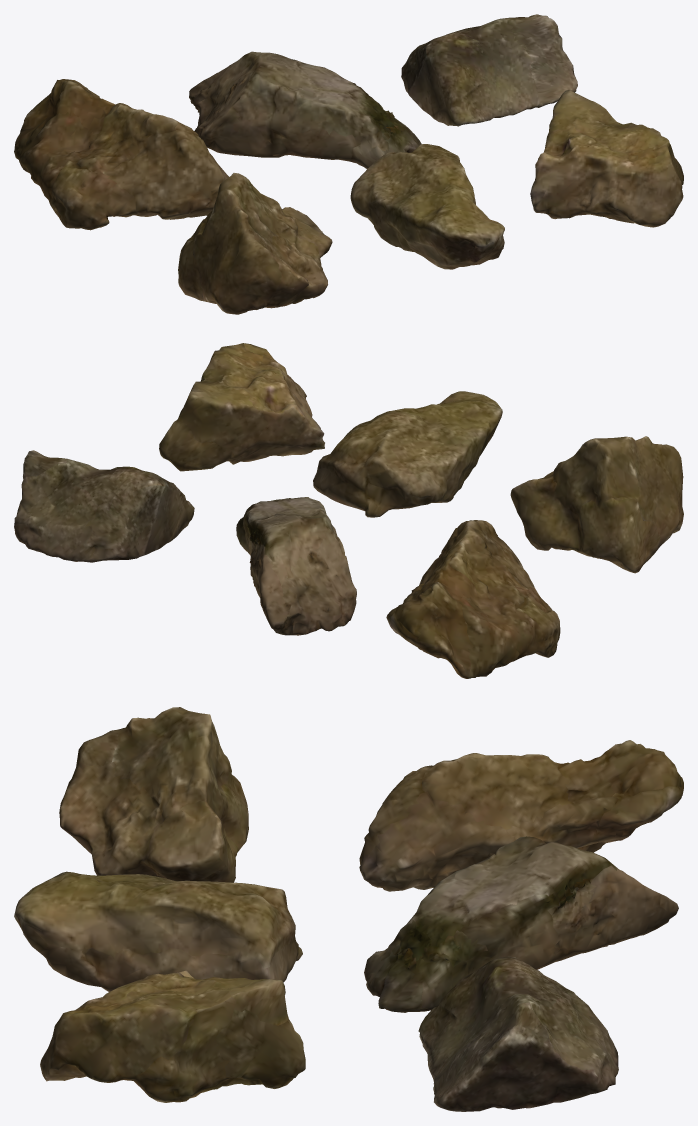
The model's file is rock_moss_set_01.glb.
The picture shows the model from 3 angles, top to bottom: view 1: azimuth 30°, elevation 25°; view 2: azimuth 150°, elevation 25°; view 3: azimuth 270°, elevation 25°; orthographic projection. The views are drawn at different scales.
Parts seen in each view (by area): view 1: rock_moss_set_01_rock01; view 2: rock_moss_set_01_rock01; view 3: rock_moss_set_01_rock01.
Boxes of the visible parts, box(x1,y1,x2,y2) form: rock_moss_set_01_rock01: box(14, 14, 683, 314); rock_moss_set_01_rock01: box(14, 343, 683, 678); rock_moss_set_01_rock01: box(14, 707, 683, 1111).
Size of the model in its own units: 8 by 1.77 by 6.94.
Materials: 1 (1 with a texture image).
